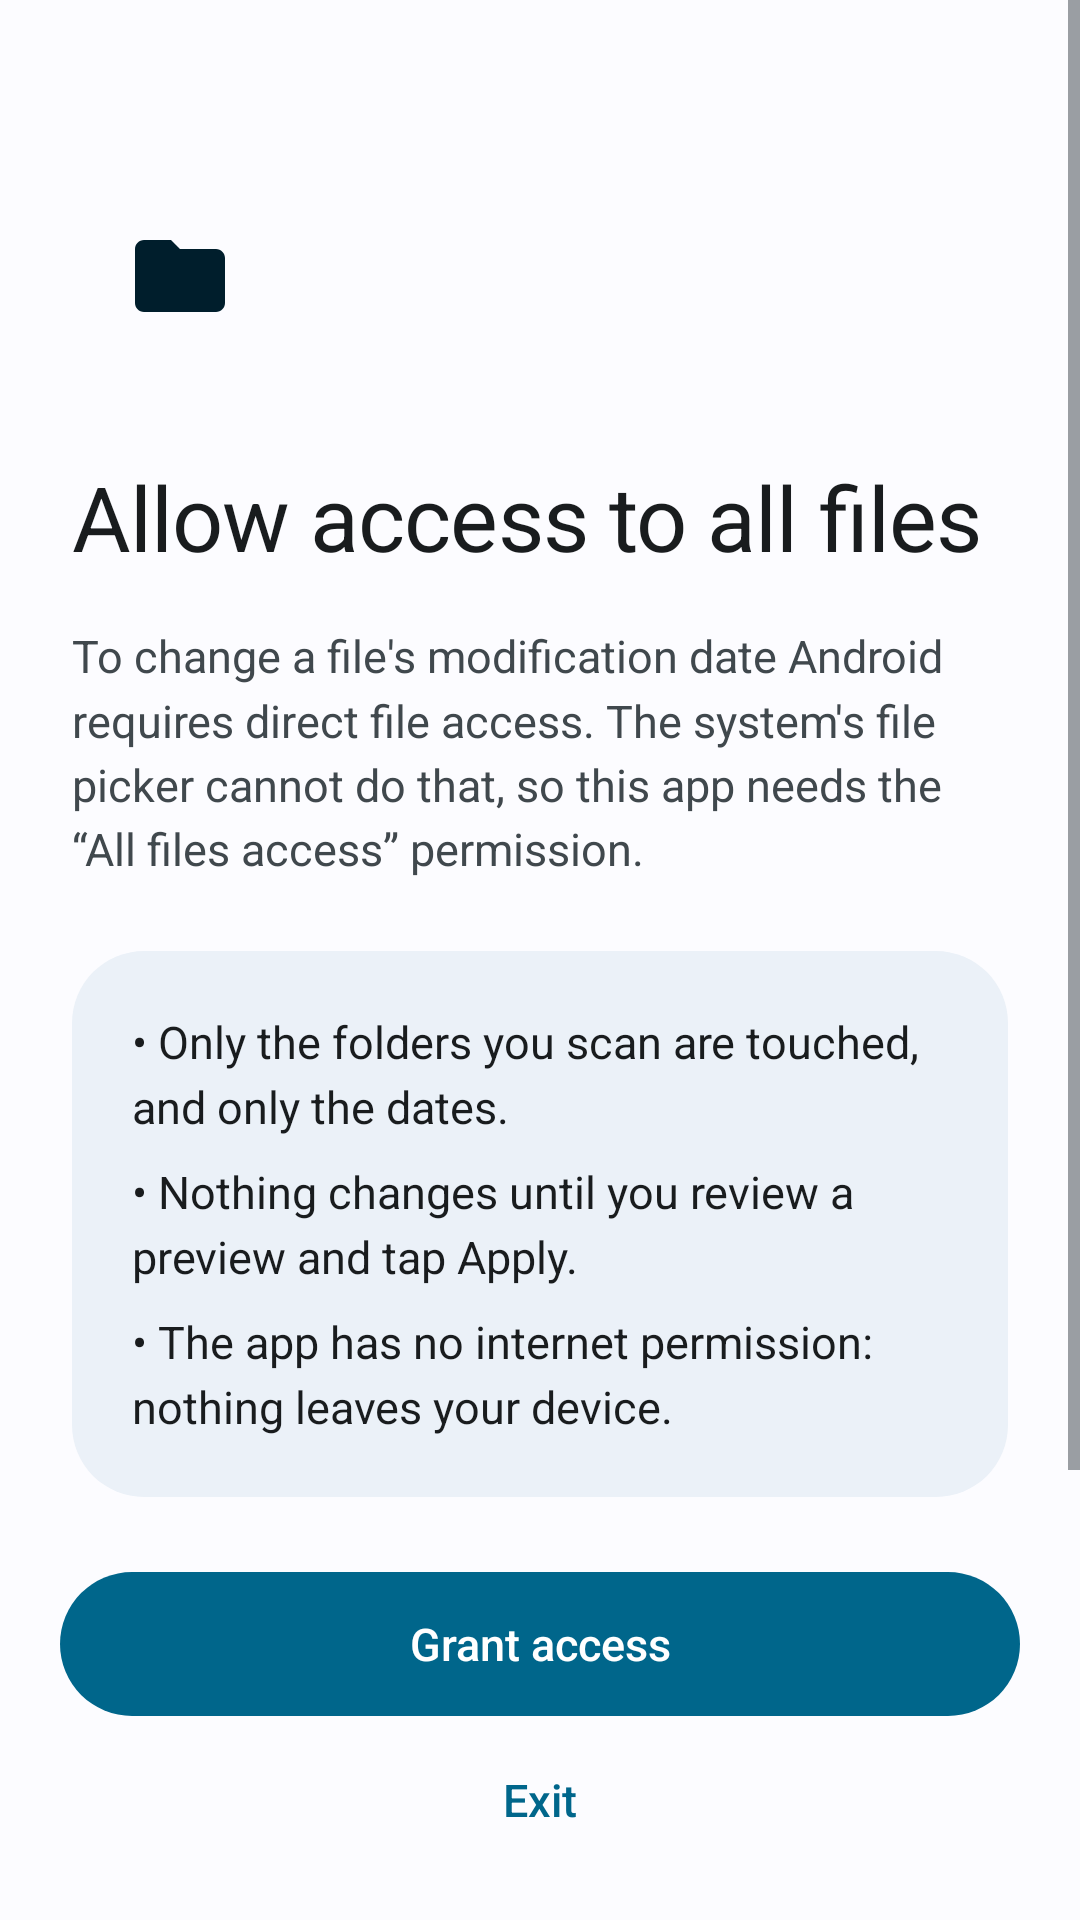

Where to tap for icons on this 1080*1920 app screen, as (x=x, y=y):
folder: (x=180, y=276)
